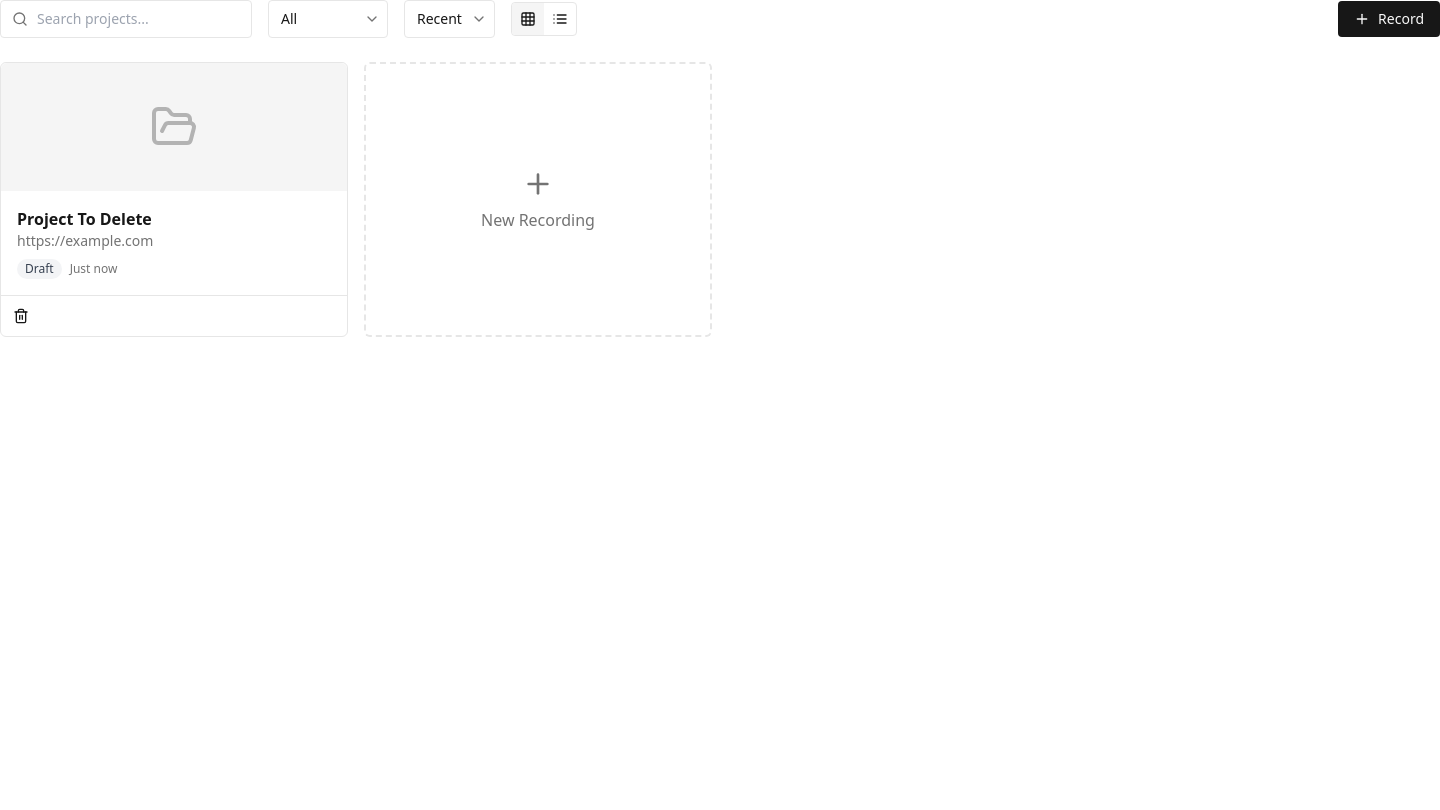
Test: ProjectList › should open delete dialog when delete button clicked
Step 1. Click the button titled "Delete project" → (21, 316), box [9,304,33,328]
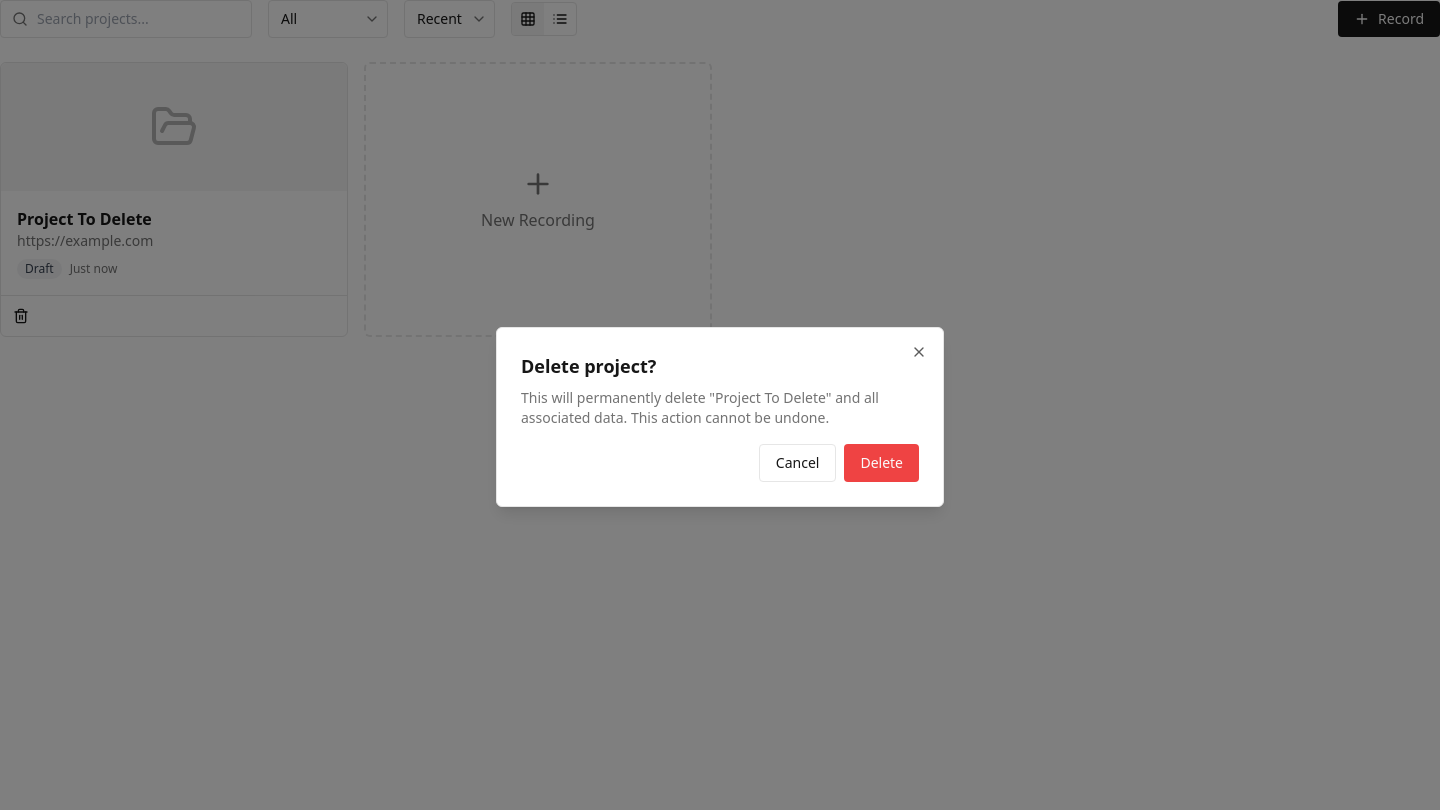
Check: the heading "Delete project?" is shown, box [521,354,656,378]
